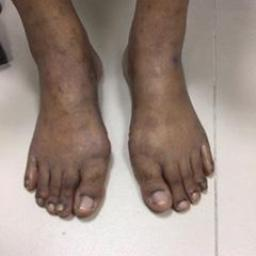Dorsal View -Both Feet-: (12, 22, 220, 232)
